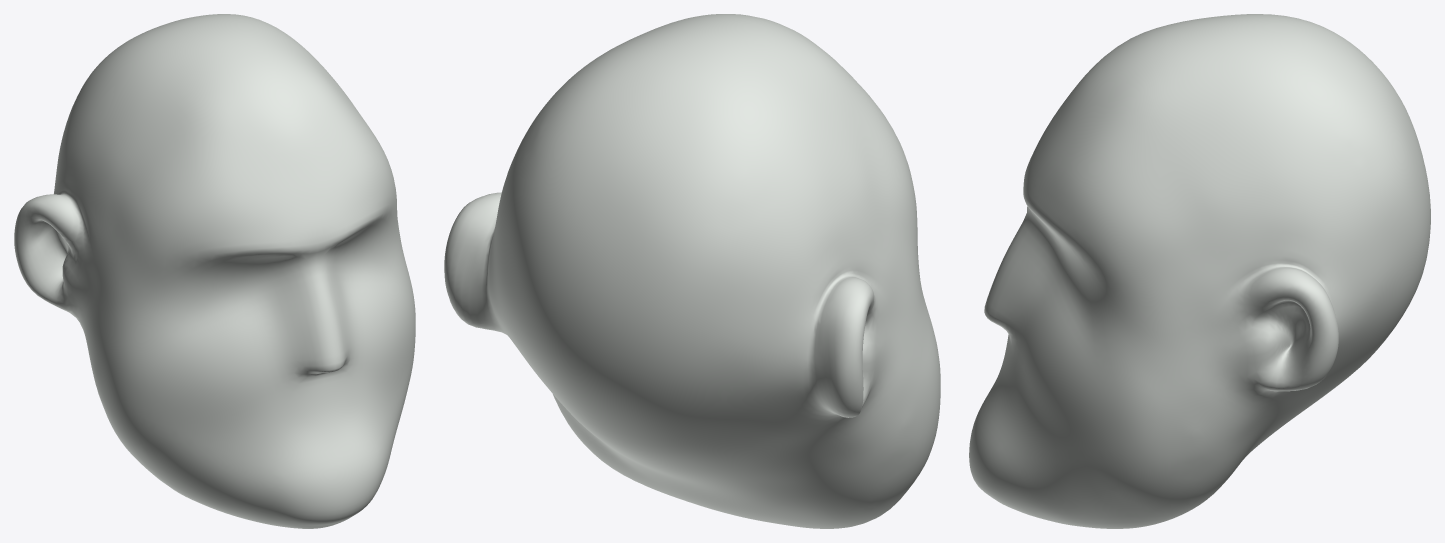
File: Avatar.fbx
3 renders of one model, left to right at view 1: azimuth 30°, elevation 25°; view 2: azimuth 150°, elevation 25°; view 3: azimuth 270°, elevation 25°, orthographic. The views are drawn at different scales.
Parts seen in each view (by area): view 1: node_id30; view 2: node_id30; view 3: node_id30.
Boxes of the visible parts, x1,y1,x2,y2 form: node_id30: (14,14,415,528); node_id30: (444,14,940,528); node_id30: (969,14,1430,528).
Bounding box in the file's own units: 0.4227 × 0.512 × 0.4509.
Materials: 1 (1 with a texture image).
